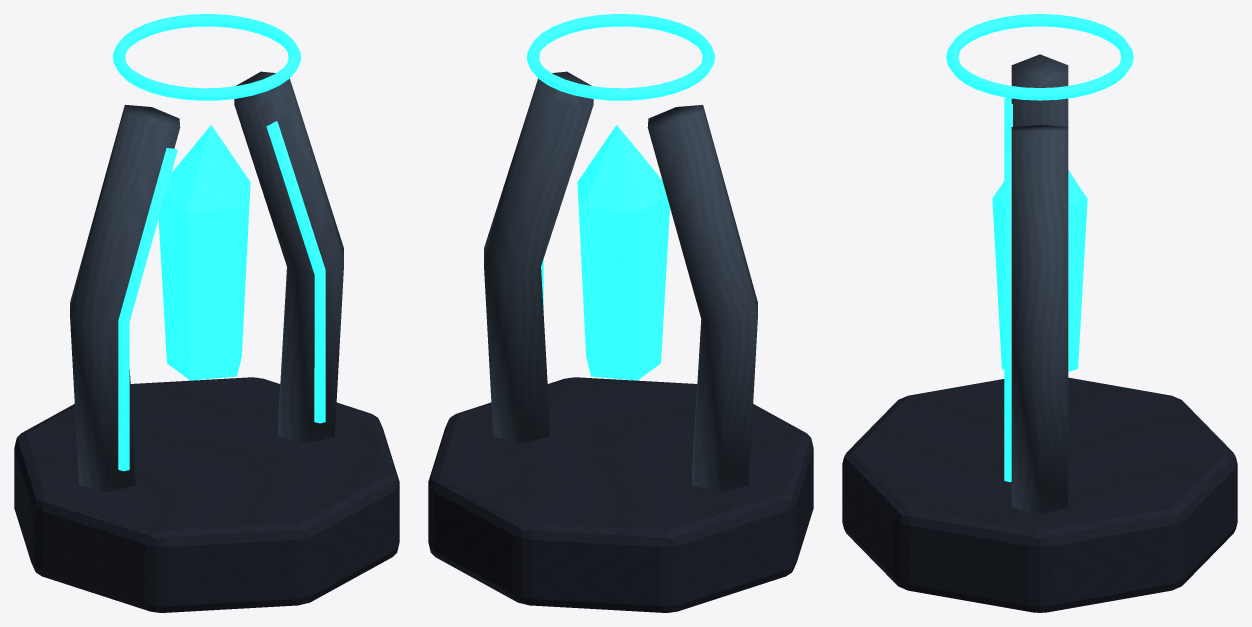
The model's file is EnergyPylon.fbx.
3 views of the same model, side by side, from view 1: azimuth 30°, elevation 25°; view 2: azimuth 150°, elevation 25°; view 3: azimuth 270°, elevation 25° (orthographic).
Parts seen in each view (by area): view 1: SM_EnergyPylon; view 2: SM_EnergyPylon; view 3: SM_EnergyPylon.
Boxes of the visible parts, x1,y1,x2,y2 form: SM_EnergyPylon: [14, 14, 399, 612]; SM_EnergyPylon: [428, 14, 813, 612]; SM_EnergyPylon: [842, 14, 1237, 612].
Bounding box in the file's own units: 158 × 158 × 212.
Materials: 1 (1 with a texture image).
